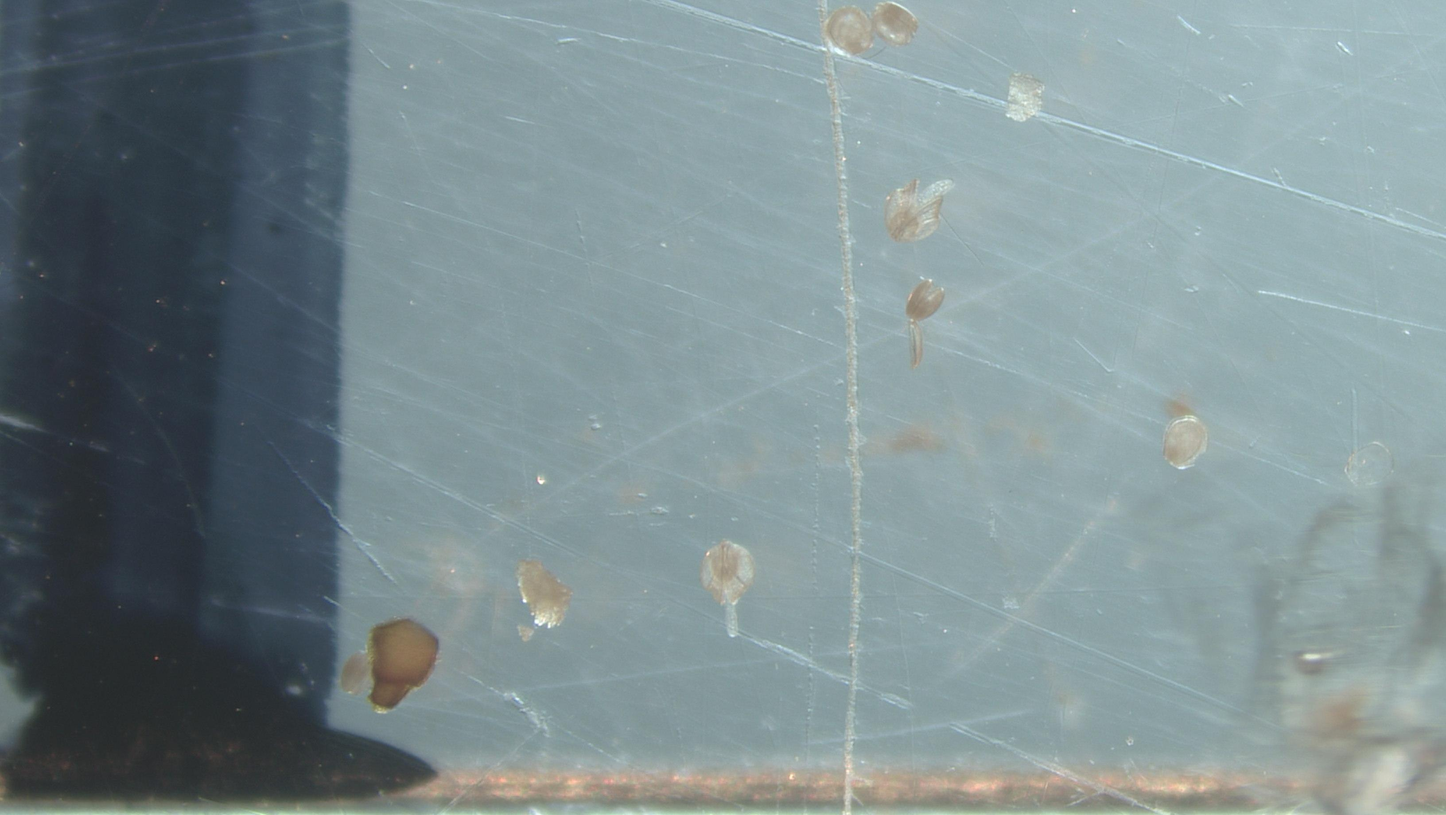live: (700, 540, 755, 637), (884, 180, 953, 242), (906, 280, 945, 369), (822, 6, 874, 56), (1164, 415, 1208, 470), (871, 0, 918, 46)
